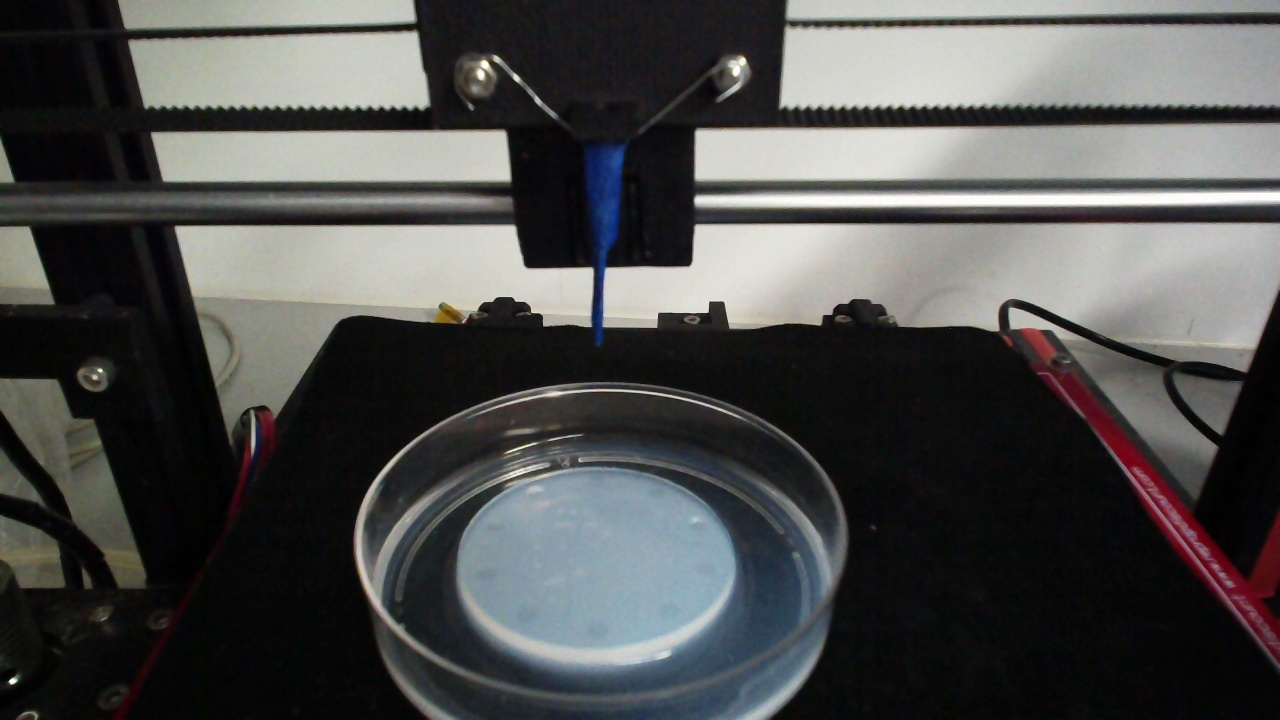groove: (585, 620, 613, 640), (654, 600, 682, 619), (693, 561, 719, 581), (514, 606, 539, 625), (474, 566, 500, 584), (686, 517, 711, 534), (523, 484, 546, 502), (585, 471, 608, 488), (483, 517, 506, 533), (646, 486, 668, 500)
needle: (586, 144, 623, 345)
